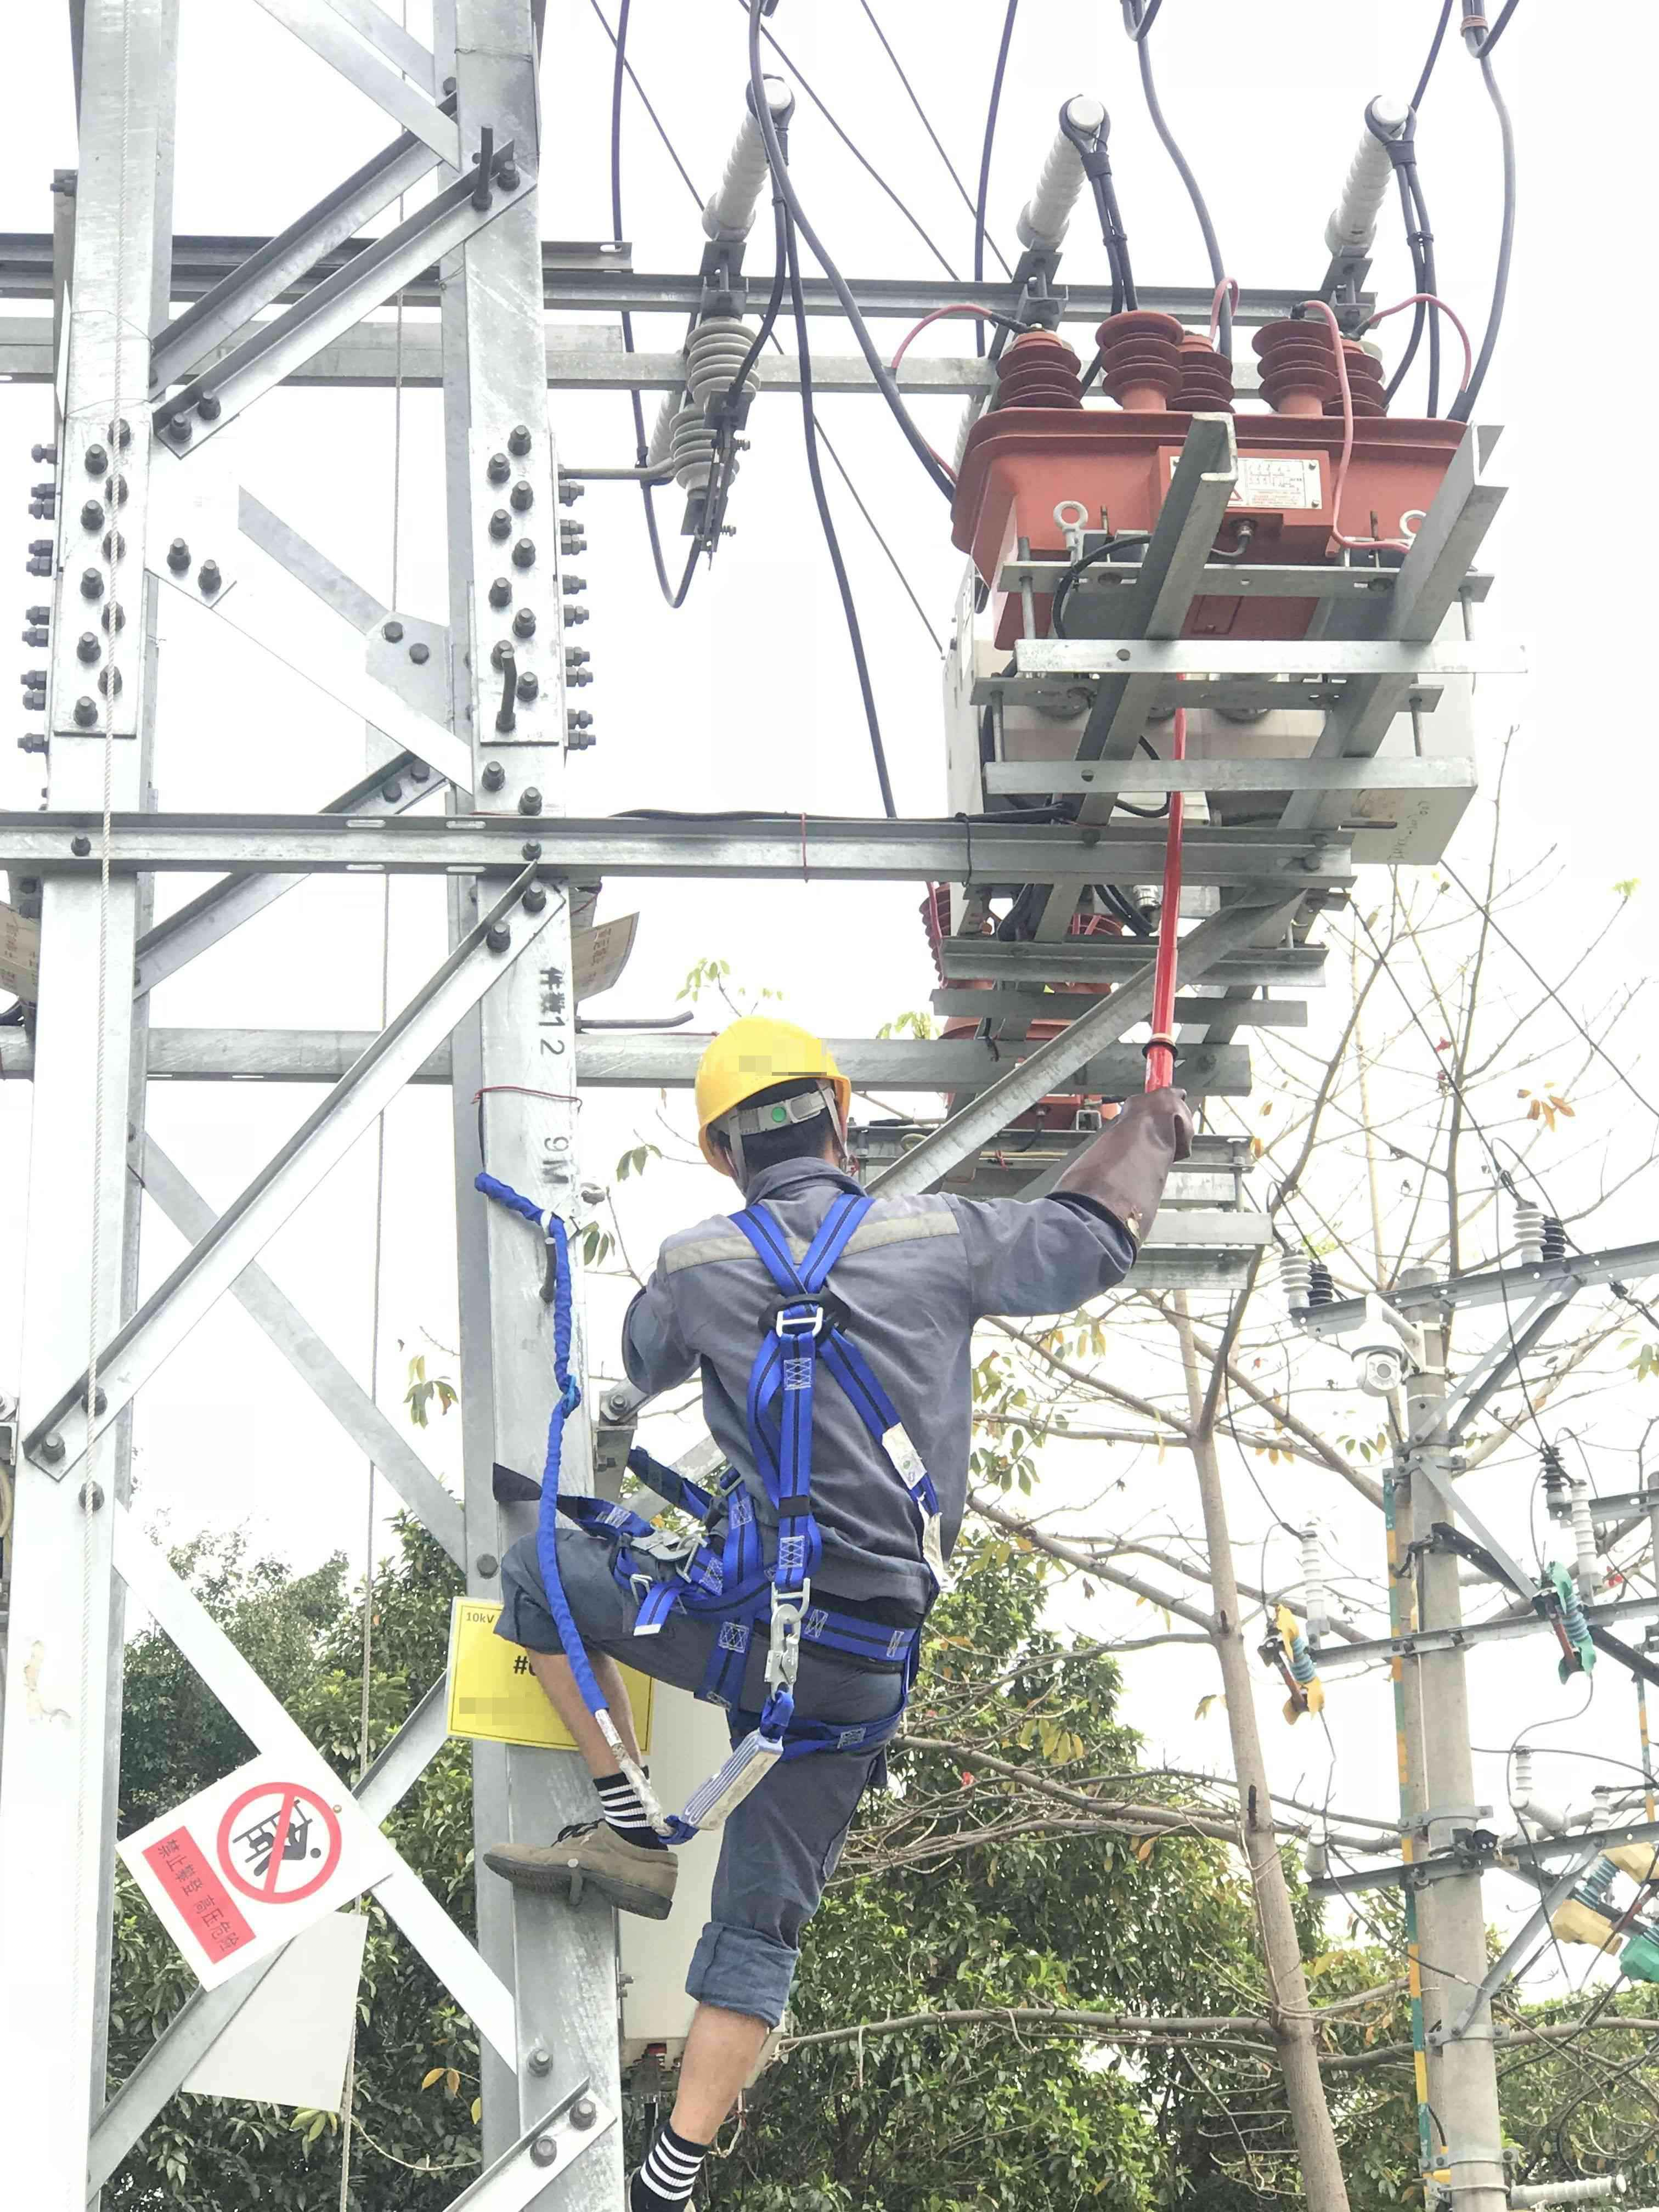downsuit: (484, 1531, 936, 2033)
upsuit: (619, 1160, 1140, 1618)
wrongbottom: (484, 1592, 657, 1785), (662, 1921, 802, 2148)
